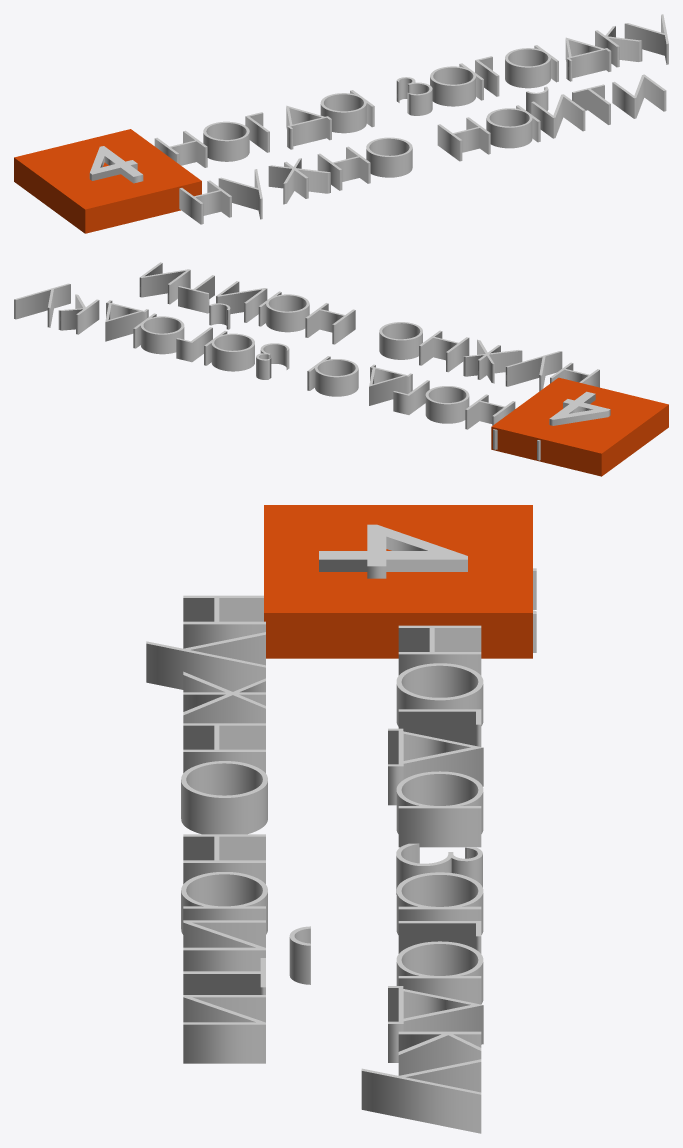
File: иногда....fbx
3 renders of one model, top to bottom at view 1: azimuth 30°, elevation 25°; view 2: azimuth 150°, elevation 25°; view 3: azimuth 270°, elevation 25°, orthographic. The views are drawn at different scales.
Parts seen in each view (by area): view 1: Текст.001, Куб, Текст; view 2: Текст.001, Куб, Текст; view 3: Текст.001, Куб, Текст.
Part boxes in pixels (x1,y1,x2,y2): Текст.001: (154,14,668,224); Куб: (14,129,201,233); Текст: (89,146,143,183); Текст.001: (14,262,599,460); Куб: (491,377,668,476); Текст: (549,391,610,425); Текст.001: (146,568,536,1133); Куб: (264,505,532,658); Текст: (319,524,467,578).
Size of the model in its own units: 644 by 29.82 by 181.
